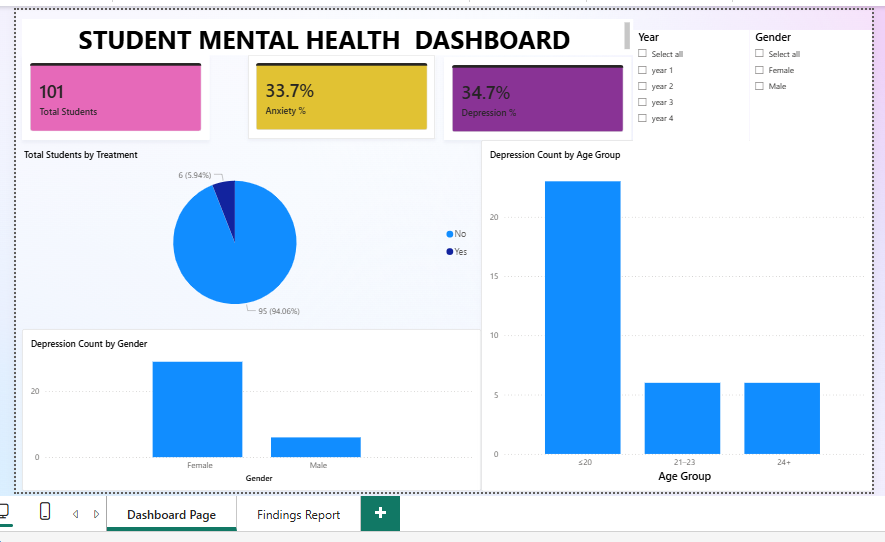

What the dashboard file says about the page in this screenshot:
{"tool":"powerbi","page":{"name":"Dashboard Page ","canvas":[1280,720],"ordinal":0},"visuals":[{"type":"cardVisual","fields":{"Data":["Student Mental health.Total Students"]},"box":[9,67.8,280.4,126.6],"z":0},{"type":"cardVisual","fields":{"Data":["Student Mental health.Anxiety %"]},"box":[346,67.8,280.4,124.4],"z":1000},{"type":"cardVisual","fields":{"Data":["Student Mental health.Depression %"]},"box":[640,70.1,280.4,124.4],"z":2000},{"type":"clusteredColumnChart","fields":{"Category":["Student Mental health.Gender"],"Y":["Student Mental health.Depression Count"]},"box":[9.3,477.1,685.5,242.4],"z":3000},{"type":"clusteredColumnChart","fields":{"Y":["Student Mental health.Depression Count"],"Category":["Student Mental health.Age Group"]},"box":[694.8,194.5,585.2,525],"z":4000},{"type":"pieChart","fields":{"Category":["Student Mental health.Treatment"],"Y":["Student Mental health.Total Students"]},"box":[0,196.1,694.8,281],"z":5000},{"type":"slicer","fields":{"Values":["Student Mental health.Gender"]},"box":[1096.3,29.3,183.7,166.8],"z":6000},{"type":"slicer","fields":{"Values":["Student Mental health.Year"]},"box":[921.8,29.3,174.5,166.8],"z":7000},{"type":"textbox","box":[9.3,13.9,912.5,54],"z":7001}]}

Visuals, with their boxes on the page's 1280x720 design canvas (x1, y1, x2, y2). These are canvas units, not pixel positions in the 885x542 screenshot, which may show the page scaled, cropped or inside an application window:
cardVisual - Student Mental health.Total Students: box(9, 68, 289, 194)
cardVisual - Student Mental health.Anxiety %: box(346, 68, 626, 192)
cardVisual - Student Mental health.Depression %: box(640, 70, 920, 194)
clusteredColumnChart - Student Mental health.Gender x Student Mental health.Depression Count: box(9, 477, 695, 720)
clusteredColumnChart - Student Mental health.Depression Count x Student Mental health.Age Group: box(695, 194, 1280, 720)
pieChart - Student Mental health.Treatment x Student Mental health.Total Students: box(0, 196, 695, 477)
slicer - Student Mental health.Gender: box(1096, 29, 1280, 196)
slicer - Student Mental health.Year: box(922, 29, 1096, 196)
textbox: box(9, 14, 922, 68)
